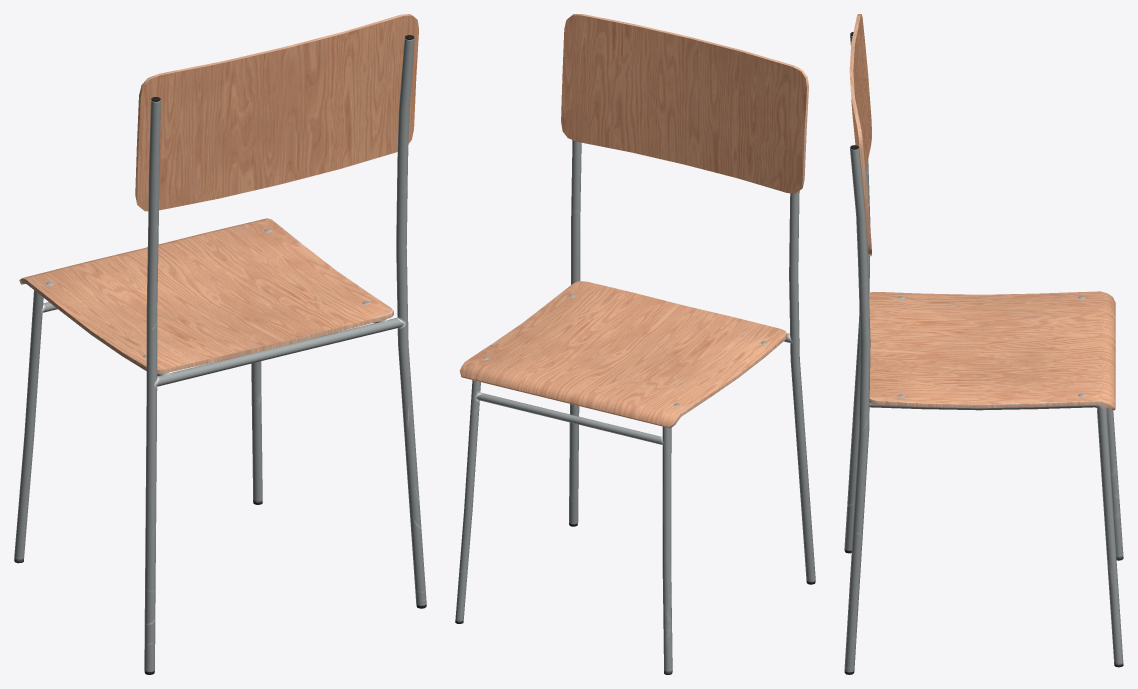
Rendered from chairs0.glb.
3 views of the same model, side by side, from view 1: azimuth 30°, elevation 25°; view 2: azimuth 150°, elevation 25°; view 3: azimuth 270°, elevation 25° (orthographic). The views are drawn at different scales.
Visible parts, largest first — view 1: Box023, Box022, Object011_Material_#2_0, Object009_Material_#2_0, Object010_Material_#2_0; view 2: Box023, Box022, Object011_Material_#2_0, Object009_Material_#2_0, Object008_Material_#2_0; view 3: Box022, Object011_Material_#2_0, Object009_Material_#2_0, Box023.
Part boxes in pixels (box(x1,y1,x2,y2)): Box023: box(135, 14, 418, 211); Box022: box(19, 218, 393, 373); Object011_Material_#2_0: box(144, 35, 426, 674); Object009_Material_#2_0: box(14, 290, 386, 563); Object010_Material_#2_0: box(155, 317, 404, 386); Box023: box(561, 14, 808, 193); Box022: box(459, 281, 786, 428); Object011_Material_#2_0: box(569, 140, 815, 584); Object009_Material_#2_0: box(455, 380, 672, 674); Object008_Material_#2_0: box(475, 392, 663, 444); Box022: box(869, 291, 1115, 410); Object011_Material_#2_0: box(844, 32, 870, 674); Object009_Material_#2_0: box(869, 403, 1123, 667); Box023: box(849, 14, 871, 255).
Size of the model in its own units: 24.63 by 49.5 by 23.1.
Materials: 1 (1 with a texture image).
